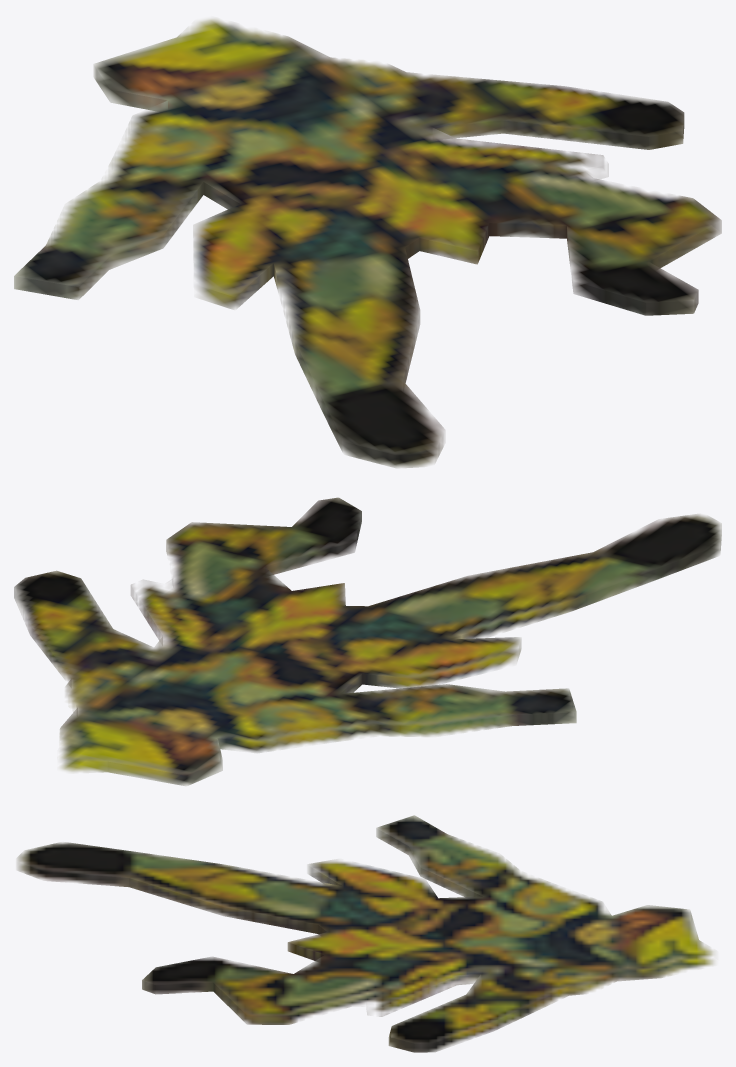
Rendered from HoangTuThienNhien.glb.
The picture shows the model from 3 angles, top to bottom: view 1: azimuth 30°, elevation 25°; view 2: azimuth 150°, elevation 25°; view 3: azimuth 270°, elevation 25°; orthographic projection. The views are drawn at different scales.
Visible parts, largest first — view 1: HoangTuThienNhien; view 2: HoangTuThienNhien; view 3: HoangTuThienNhien.
Boxes of the visible parts, left/top/right/bottom form: HoangTuThienNhien: left=14, top=17, right=721, bottom=468; HoangTuThienNhien: left=14, top=497, right=721, bottom=785; HoangTuThienNhien: left=16, top=815, right=717, bottom=1052.
Size of the model in its own units: 0.2683 by 0.005 by 0.3515.
1 material, 1 textured.
